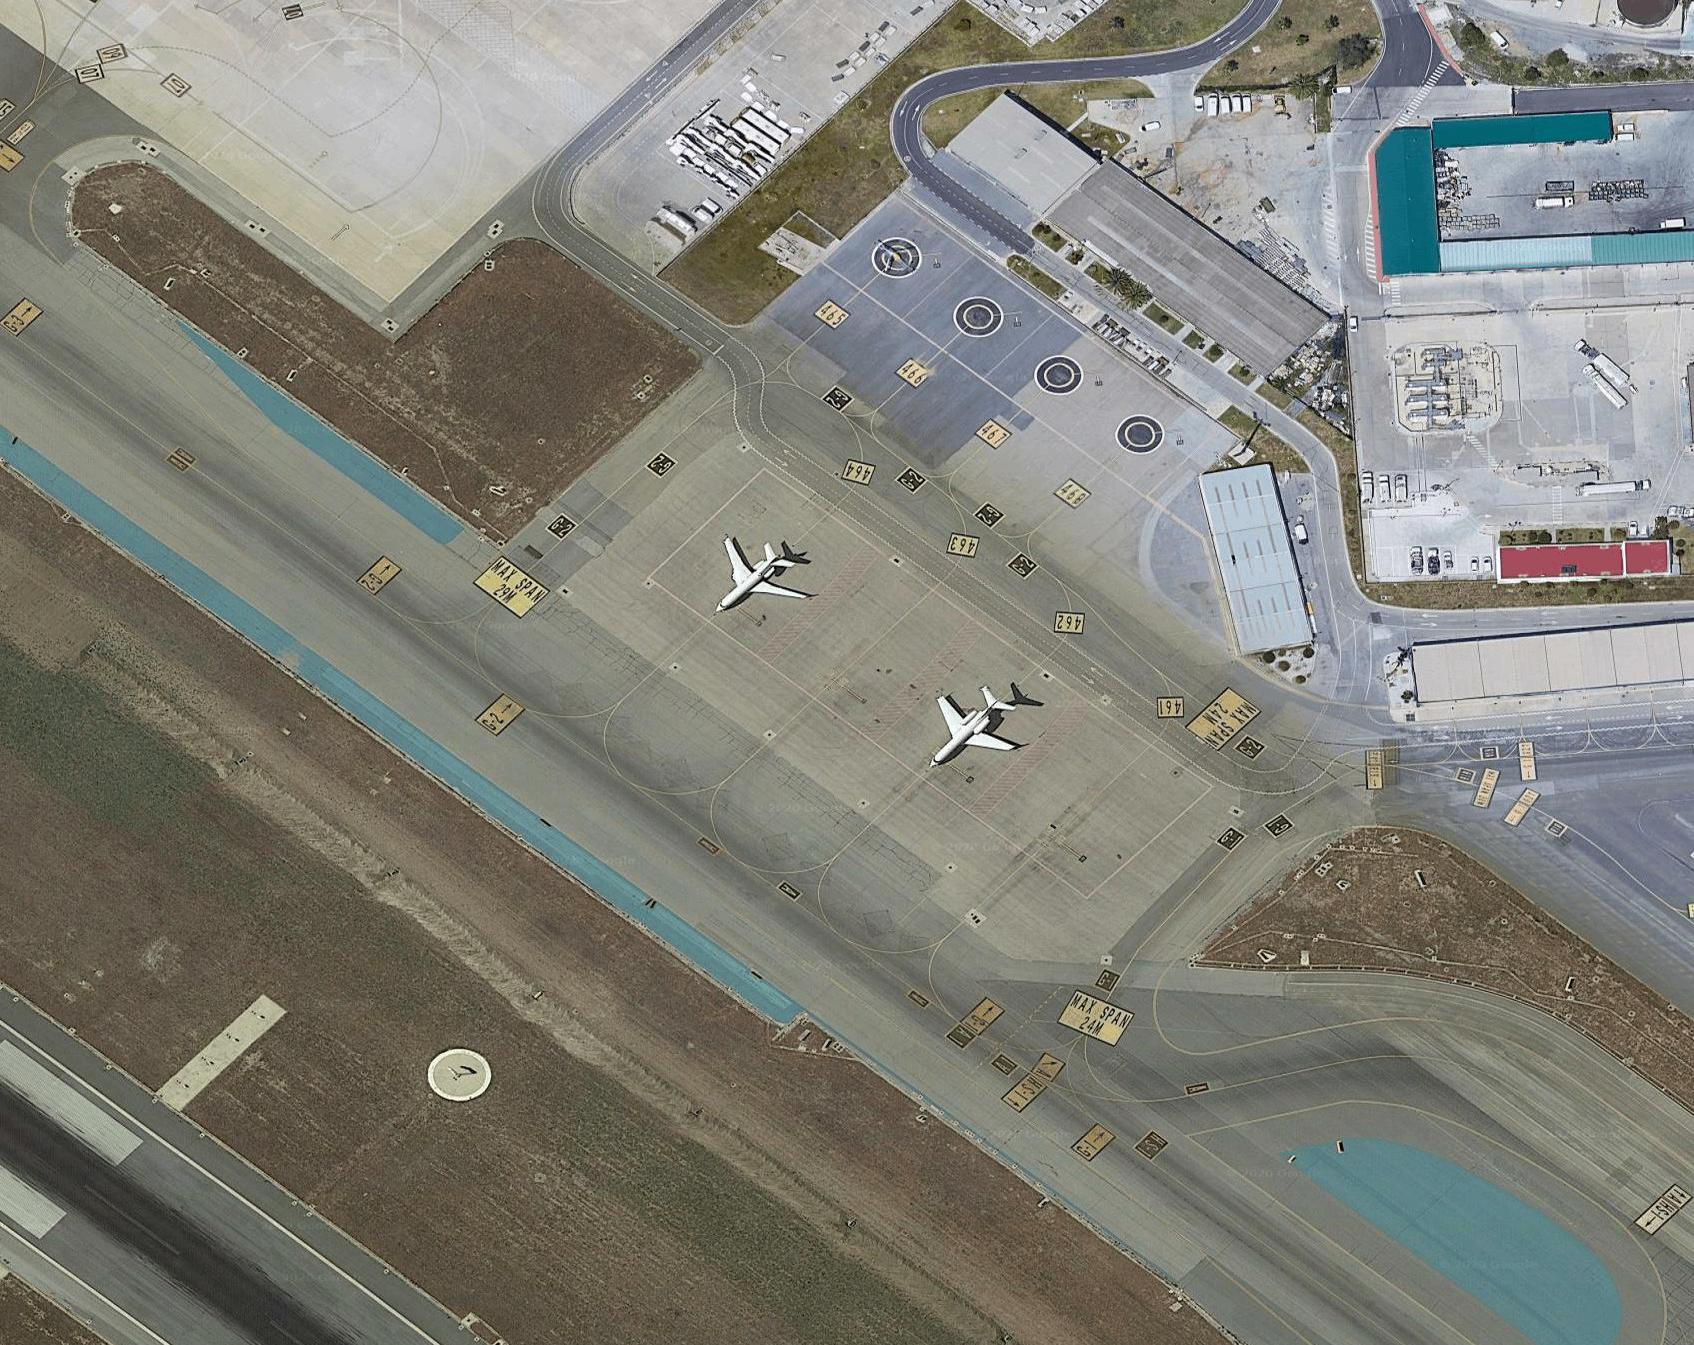plane: (891, 650, 1063, 810), (690, 507, 832, 650), (879, 241, 914, 271)
